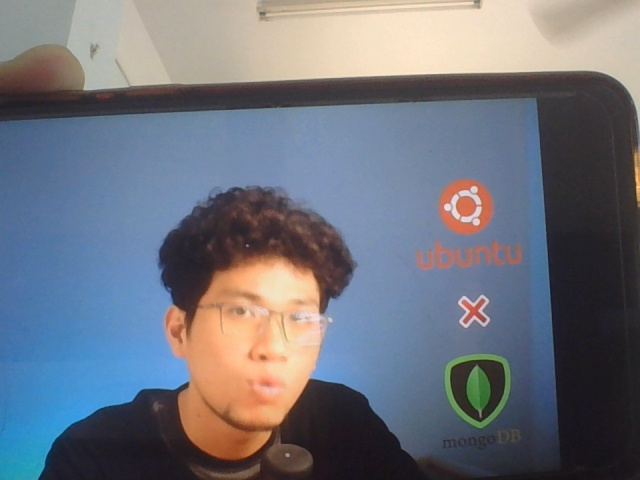fake: (173, 203, 335, 432)
